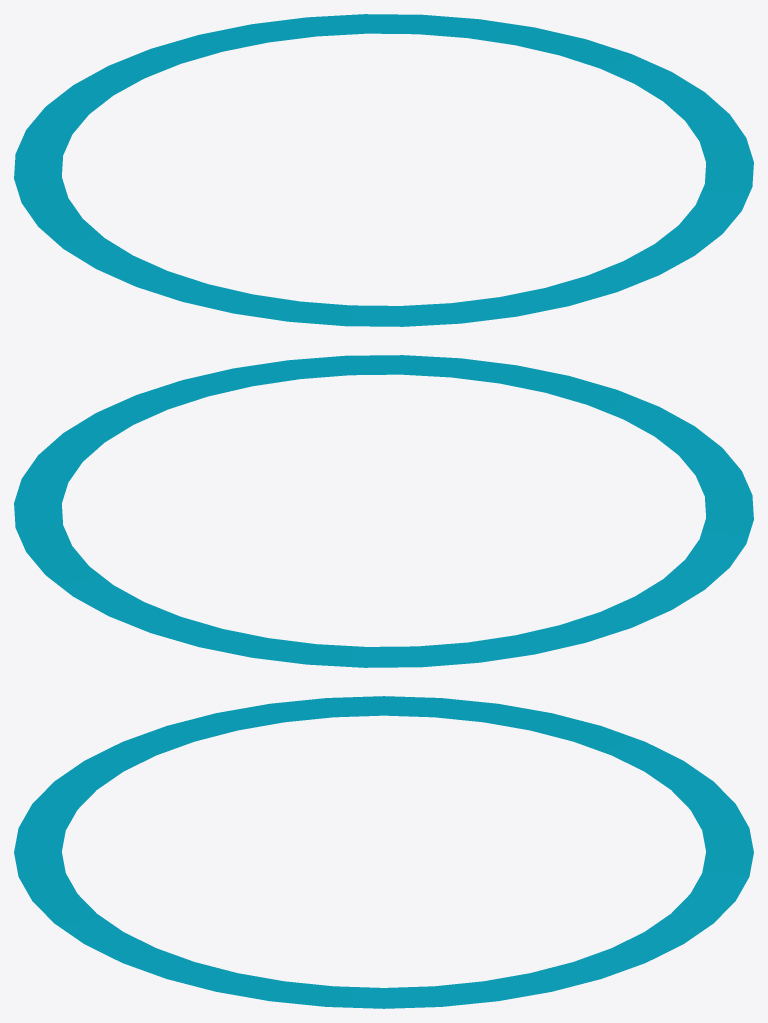
The model's file is bomba_jockey.glb.
3 views of the same model, one above another, from view 1: azimuth 30°, elevation 25°; view 2: azimuth 150°, elevation 25°; view 3: azimuth 270°, elevation 25° (orthographic).
Visible parts, largest first — view 1: root; view 2: root; view 3: root.
Boxes of the visible parts, <box> form: root: <box>14,14,753,326</box>; root: <box>14,355,753,667</box>; root: <box>14,696,753,1008</box>.
Bounding box in the file's own units: 0.1648 × 0.000165 × 0.1648.
